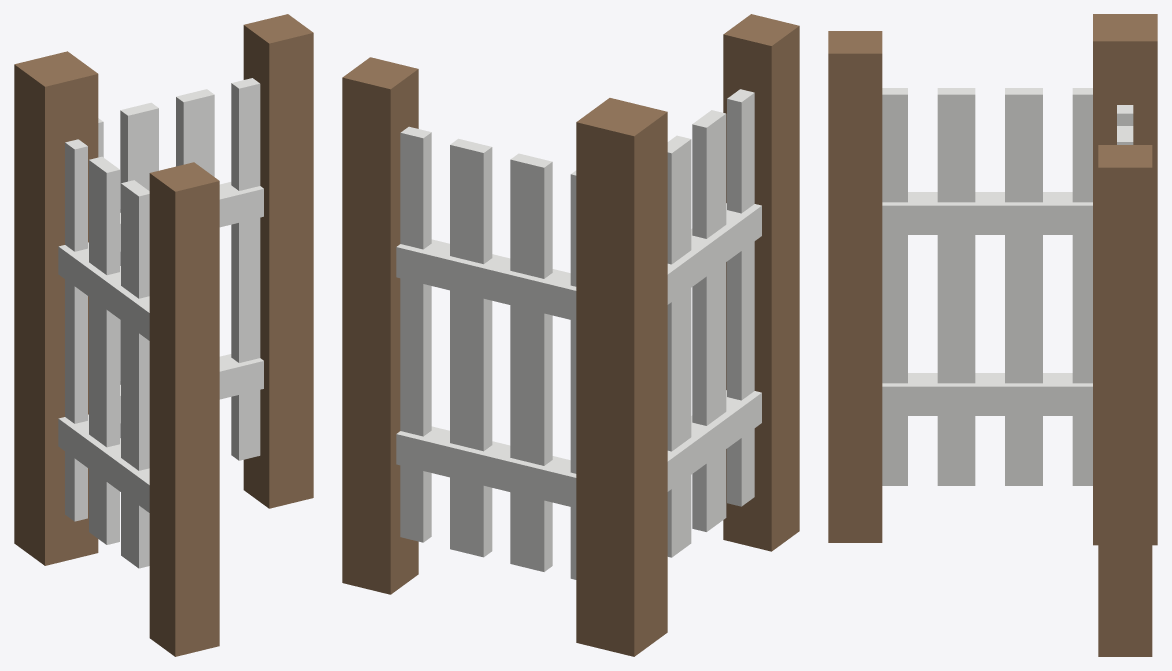
The model's file is fence_picket_corner.glb.
3 renders of one model, left to right at view 1: azimuth 30°, elevation 25°; view 2: azimuth 150°, elevation 25°; view 3: azimuth 270°, elevation 25°, orthographic. The views are drawn at different scales.
Parts seen in each view (by area): view 1: fence_picket_corner; view 2: fence_picket_corner; view 3: fence_picket_corner.
Boxes of the visible parts, x1,y1,x2,y2 form: fence_picket_corner: (14,14,313,656); fence_picket_corner: (342,14,799,656); fence_picket_corner: (828,14,1157,656).
Bounding box in the file's own units: 0.61 × 1.03 × 0.61.
